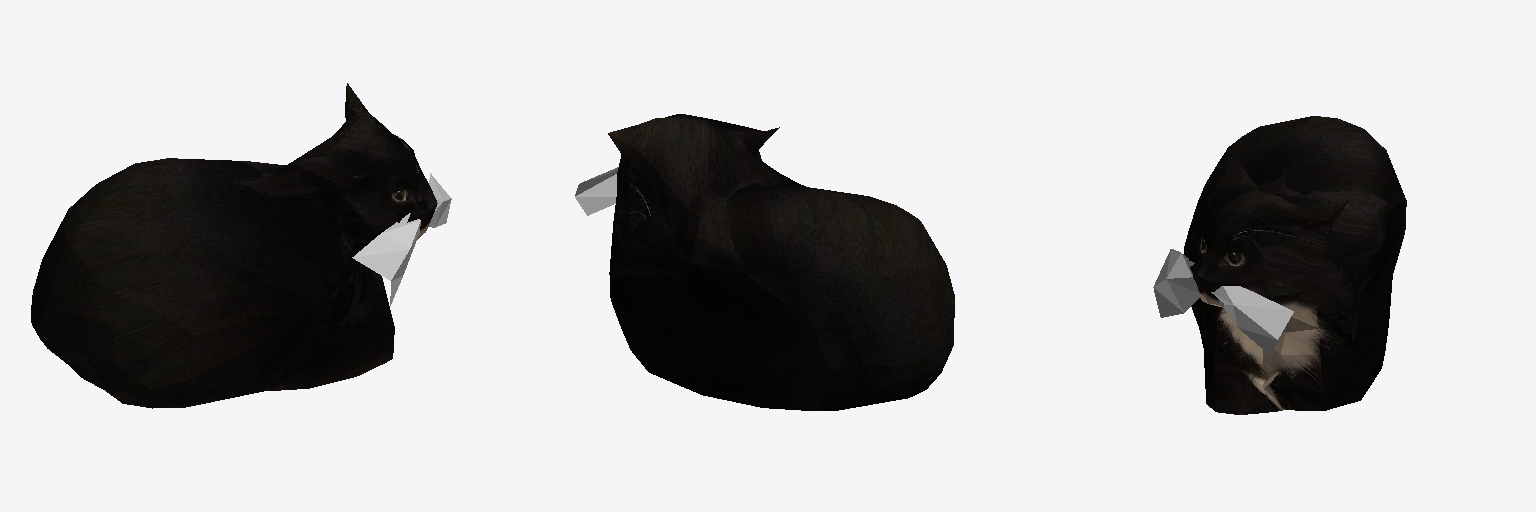
3 views of the same model, side by side, from view 1: azimuth 30°, elevation 25°; view 2: azimuth 150°, elevation 25°; view 3: azimuth 270°, elevation 25° (orthographic).
Visible parts, largest first — view 1: dingus_dingus_0, dingus_whiskers_0; view 2: dingus_dingus_0, dingus_whiskers_0; view 3: dingus_dingus_0, dingus_whiskers_0.
Part boxes in pixels (bbox=[...]): dingus_dingus_0: bbox=[31, 83, 437, 408]; dingus_whiskers_0: bbox=[352, 173, 451, 305]; dingus_dingus_0: bbox=[608, 114, 954, 410]; dingus_whiskers_0: bbox=[575, 167, 618, 215]; dingus_dingus_0: bbox=[1184, 116, 1406, 414]; dingus_whiskers_0: bbox=[1153, 249, 1293, 354].
Size of the model in its own units: 33.23 by 19.21 by 18.75.
Materials: 2 (1 with a texture image).